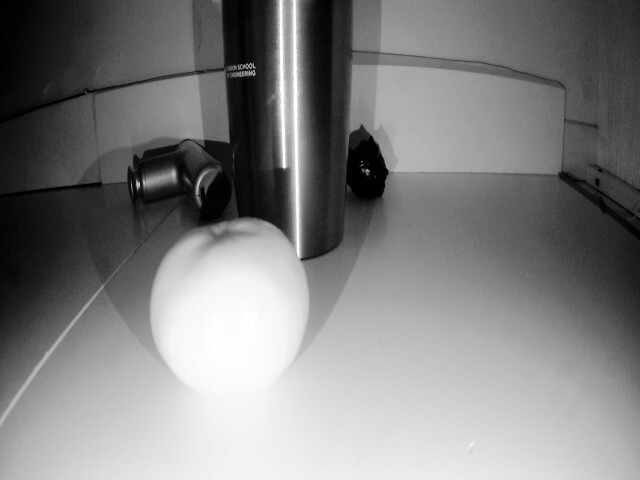black: (346, 139, 406, 206)
